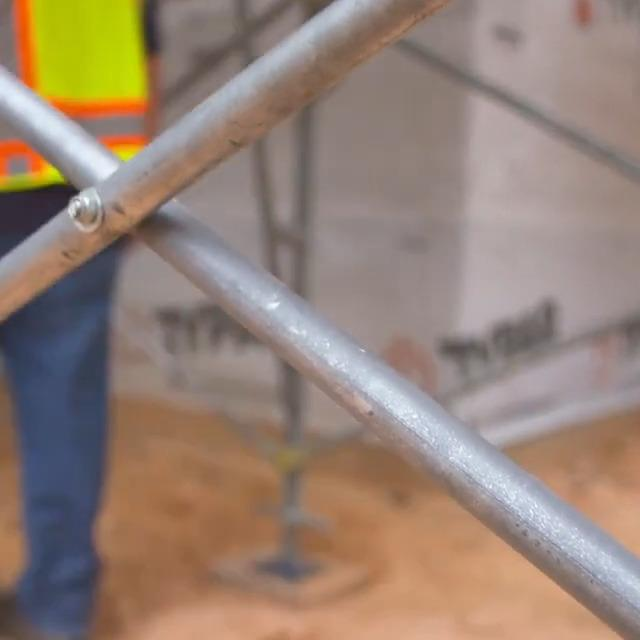Person: (0, 0, 166, 640)
Safety Vest: (0, 0, 154, 192)
